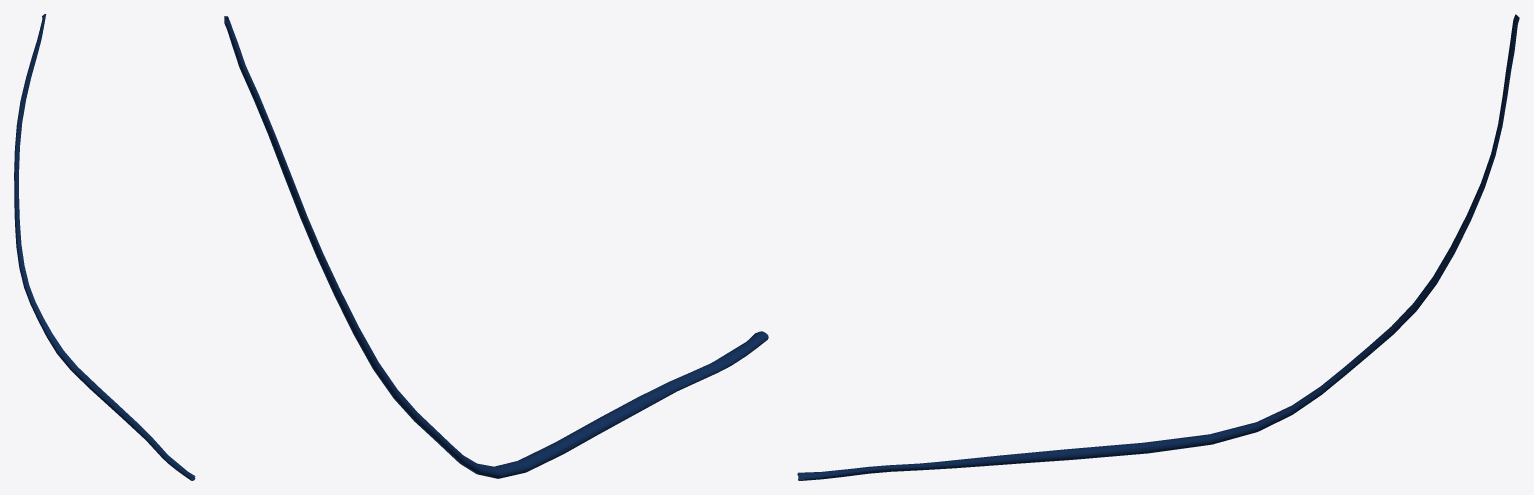
File: L vena epigastrica cranialis.fbx
The picture shows the model from 3 angles, left to right: view 1: azimuth 30°, elevation 25°; view 2: azimuth 150°, elevation 25°; view 3: azimuth 270°, elevation 25°; orthographic projection. The views are drawn at different scales.
Visible parts, largest first — view 1: L vena epigastrica cranialis, L vena epigastrica cranialis low; view 2: L vena epigastrica cranialis, L vena epigastrica cranialis low; view 3: L vena epigastrica cranialis, L vena epigastrica cranialis low.
Boxes of the visible parts, bbox=[...] form: L vena epigastrica cranialis: bbox=[14, 14, 195, 480]; L vena epigastrica cranialis low: bbox=[14, 14, 195, 480]; L vena epigastrica cranialis: bbox=[224, 16, 768, 478]; L vena epigastrica cranialis low: bbox=[224, 16, 752, 476]; L vena epigastrica cranialis: bbox=[797, 15, 1519, 480]; L vena epigastrica cranialis low: bbox=[798, 14, 1519, 480].
Size of the model in its own units: 8.18 by 35.38 by 44.85.
